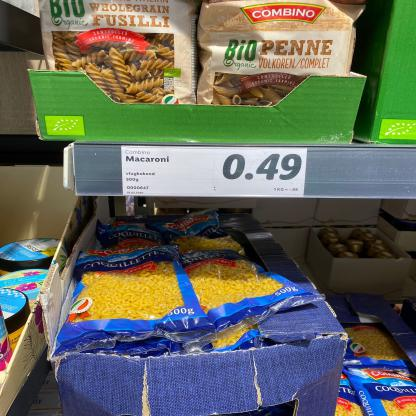prtg: (122, 147, 308, 199)
